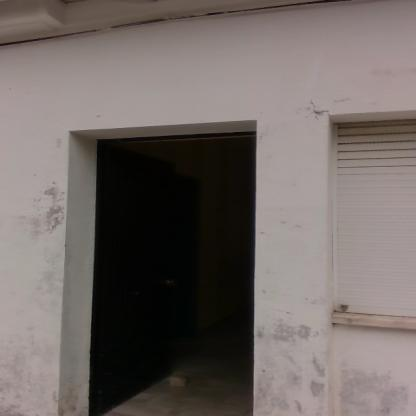open: (55, 107, 277, 412)
